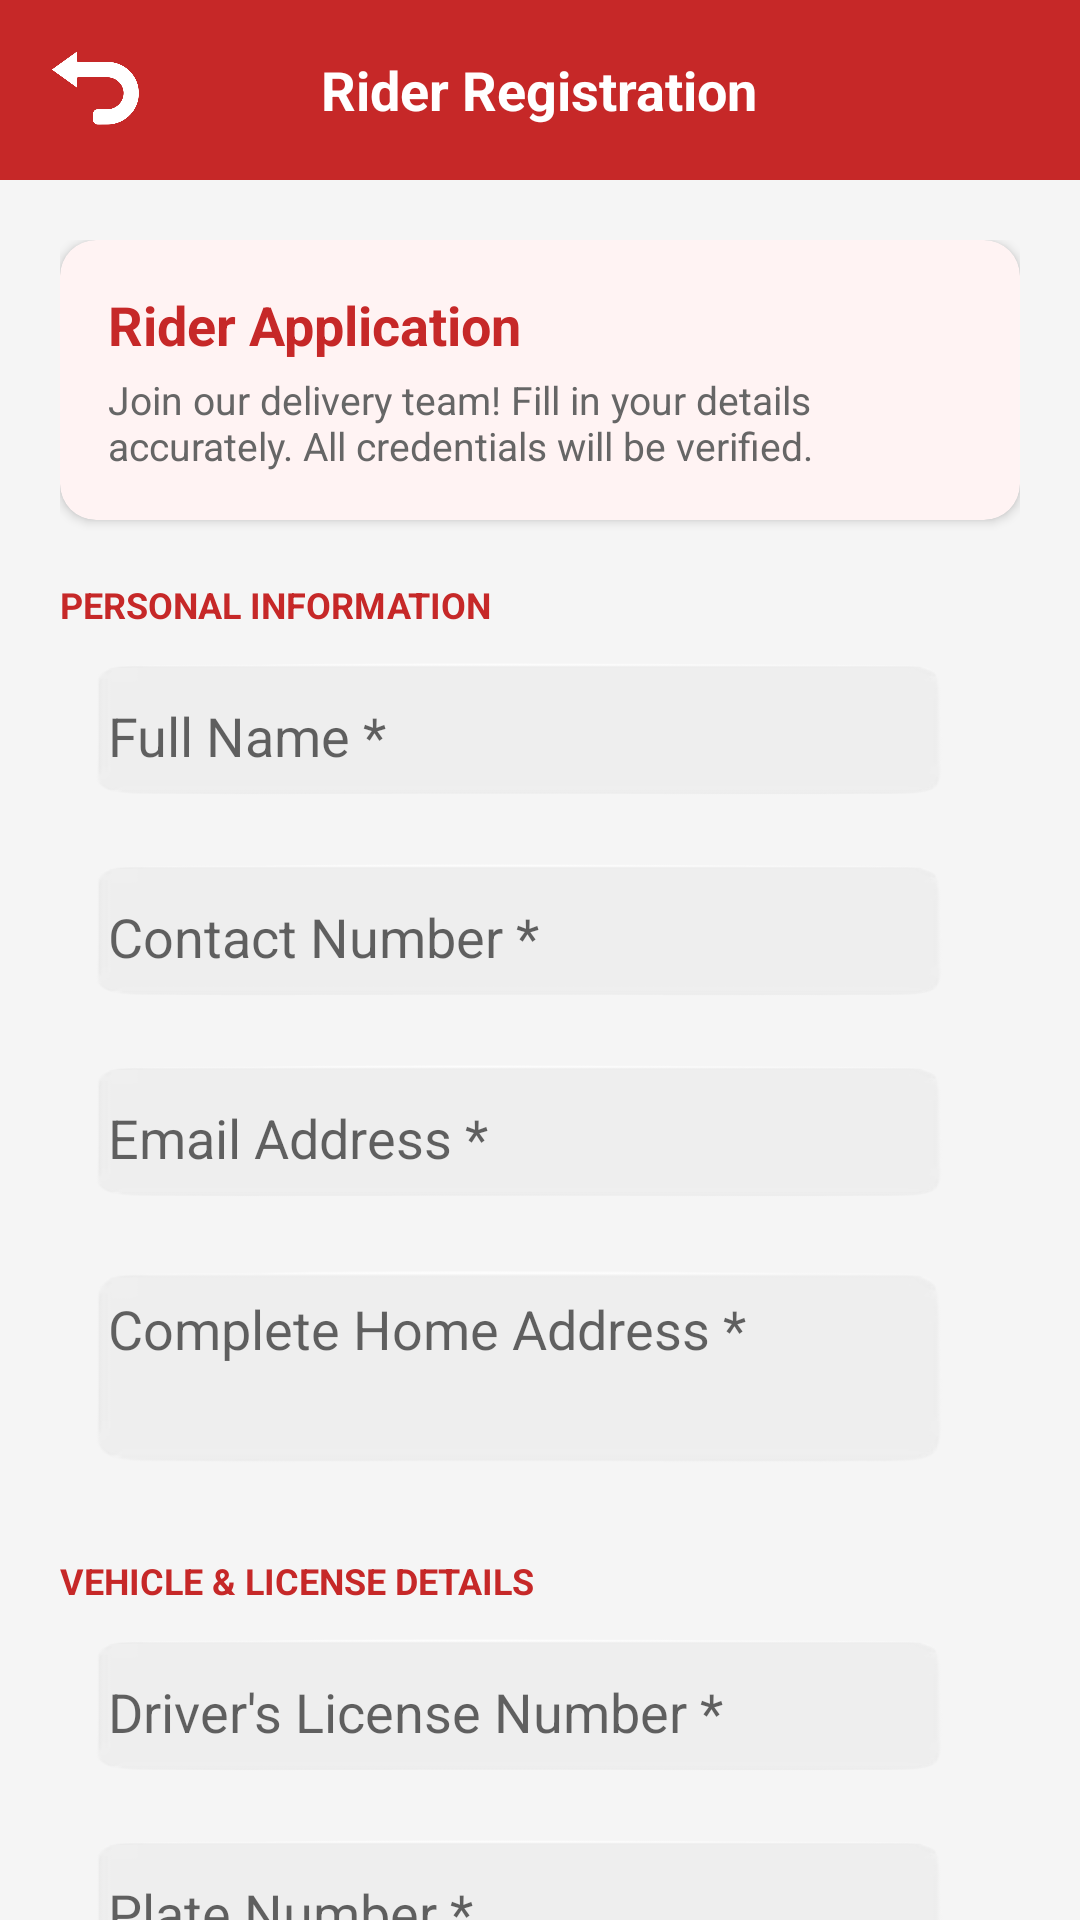

Screen size 1080px x 1920px. Icon name, then its center in pixels as (x,y):
back: (95,88)
